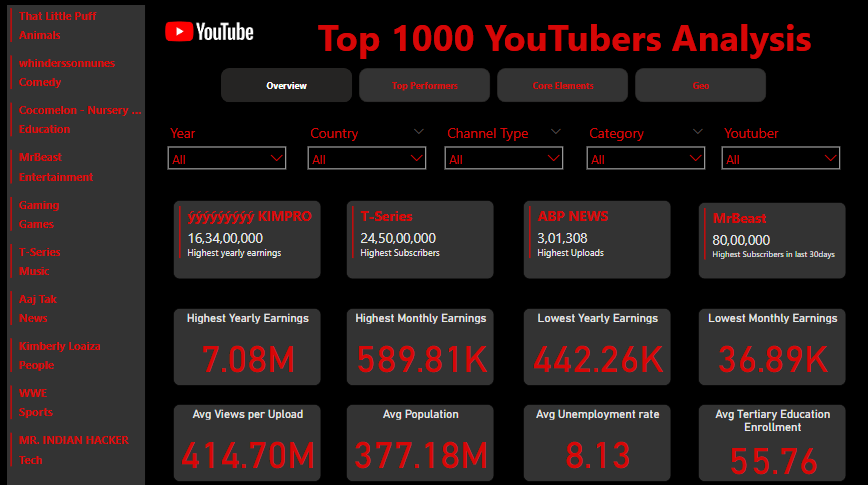

What the dashboard file says about the page in this screenshot:
{"tool":"powerbi","page":{"name":"Overview","canvas":[1280,720],"ordinal":0},"visuals":[{"type":"multiRowCard","fields":{"Values":["Top 1000 Youtubers.Highest Paid Youtuber","Top 1000 Youtubers.Highest yearly earnings"]},"box":[258.7,300.7,216.7,115.9],"z":0},{"type":"multiRowCard","fields":{"Values":["Top 1000 Youtubers.Highest Subscribed Youtuber","Top 1000 Youtubers.Highest Subscribers"]},"box":[512.3,300.7,216.7,115.9],"z":1000},{"type":"multiRowCard","fields":{"Values":["Top 1000 Youtubers.Highest Uploaded Channel","Top 1000 Youtubers.Highest Uploads"]},"box":[771,300.7,216.7,115.9],"z":2000},{"type":"multiRowCard","fields":{"Values":["Top 1000 Youtubers.Recent Most popular Youtuber","Top 1000 Youtubers.Highest last 30days Subscribers"]},"box":[1028,302.4,216.7,112.5],"z":3000},{"type":"image","box":[201.6,0,216.7,107.5],"z":4000},{"type":"slicer","fields":{"Values":["Top 1000 Youtubers.created_full_date.Variation.Date Hierarchy.Year"]},"box":[241.9,183.1,193.2,75.6],"z":5000},{"type":"slicer","title":"Channel Type","fields":{"Values":["Top 1000 Youtubers.channel_type"]},"box":[646.7,183.1,193.2,75.6],"z":6000},{"type":"slicer","title":"Channel Type","fields":{"Values":["Top 1000 Youtubers.Country"]},"box":[446.8,183.1,193.2,75.6],"z":7000},{"type":"slicer","title":"Channel Type","fields":{"Values":["Top 1000 Youtubers.Youtuber"]},"box":[1051.5,183.1,193.2,75.6],"z":8000},{"type":"textbox","title":"Top 1000 YouTubers Analysis","box":[418.3,23.5,826.5,72.2],"z":9000},{"type":"card","title":"Highest Yearly Earnings","fields":{"Values":["Top 1000 Youtubers.highest_yearly_earnings"]},"box":[258.7,458.6,216.7,114.2],"z":10000},{"type":"card","title":"Highest Monthly Earnings","fields":{"Values":["Top 1000 Youtubers.highest_monthly_earnings"]},"box":[512.3,458.6,216.7,114.2],"z":11000},{"type":"card","title":"Lowest Yearly Earnings","fields":{"Values":["Top 1000 Youtubers.lowest_yearly_earnings"]},"box":[771,458.6,216.7,114.2],"z":12000},{"type":"card","title":"Lowest Monthly Earnings","fields":{"Values":["Top 1000 Youtubers.lowest_monthly_earnings"]},"box":[1028,458.6,216.7,114.2],"z":13000},{"type":"card","title":"Avg Views per Upload","fields":{"Values":["Top 1000 Youtubers.Avg Views per Upload"]},"box":[258.7,598,216.7,114.2],"z":14000},{"type":"card","title":"Avg Population","fields":{"Values":["Top 1000 Youtubers.Population"]},"box":[512.3,598,216.7,114.2],"z":15000},{"type":"card","title":"Avg Unemployment rate","fields":{"Values":["Top 1000 Youtubers.Unemployment_rate"]},"box":[771,598,216.7,114.2],"z":16000},{"type":"card","title":"Avg Tertiary Education Enrollment","fields":{"Values":["Top 1000 Youtubers.Gross_tertiary_education_enrollment"]},"box":[1028,598,216.7,114.2],"z":17000},{"type":"slicer","title":"Channel Type","fields":{"Values":["Top 1000 Youtubers.category"]},"box":[855,183.1,193.2,75.6],"z":18000},{"type":"multiRowCard","title":"Top Channel by Category","fields":{"Values":["Top 1000 Youtubers.Youtuber","Top 1000 Youtubers.channel_type"]},"box":[16.8,15.1,201.6,705.5],"z":19000},{"type":"pageNavigator","box":[329.2,107.5,799.6,50.4],"z":20000}]}

Visuals, with their boxes in screenshot pixels (x1, y1, x2, y2), scaled from the page's 1280x720 canvas onto the 868x485 screenshot:
multiRowCard - Top 1000 Youtubers.Highest Paid Youtuber x Top 1000 Youtubers.Highest yearly earnings: 175, 203, 322, 281
multiRowCard - Top 1000 Youtubers.Highest Subscribed Youtuber x Top 1000 Youtubers.Highest Subscribers: 347, 203, 494, 281
multiRowCard - Top 1000 Youtubers.Highest Uploaded Channel x Top 1000 Youtubers.Highest Uploads: 523, 203, 670, 281
multiRowCard - Top 1000 Youtubers.Recent Most popular Youtuber x Top 1000 Youtubers.Highest last 30days Subscribers: 697, 204, 844, 279
image: 137, 0, 284, 72
slicer - Top 1000 Youtubers.created_full_date.Variation.Date Hierarchy.Year: 164, 123, 295, 174
"Channel Type" slicer: 439, 123, 570, 174
"Channel Type" slicer: 303, 123, 434, 174
"Channel Type" slicer: 713, 123, 844, 174
"Top 1000 YouTubers Analysis" textbox: 284, 16, 844, 64
"Highest Yearly Earnings" card: 175, 309, 322, 386
"Highest Monthly Earnings" card: 347, 309, 494, 386
"Lowest Yearly Earnings" card: 523, 309, 670, 386
"Lowest Monthly Earnings" card: 697, 309, 844, 386
"Avg Views per Upload" card: 175, 403, 322, 480
"Avg Population" card: 347, 403, 494, 480
"Avg Unemployment rate" card: 523, 403, 670, 480
"Avg Tertiary Education Enrollment" card: 697, 403, 844, 480
"Channel Type" slicer: 580, 123, 711, 174
"Top Channel by Category" multiRowCard: 11, 10, 148, 484
pageNavigator: 223, 72, 765, 106
